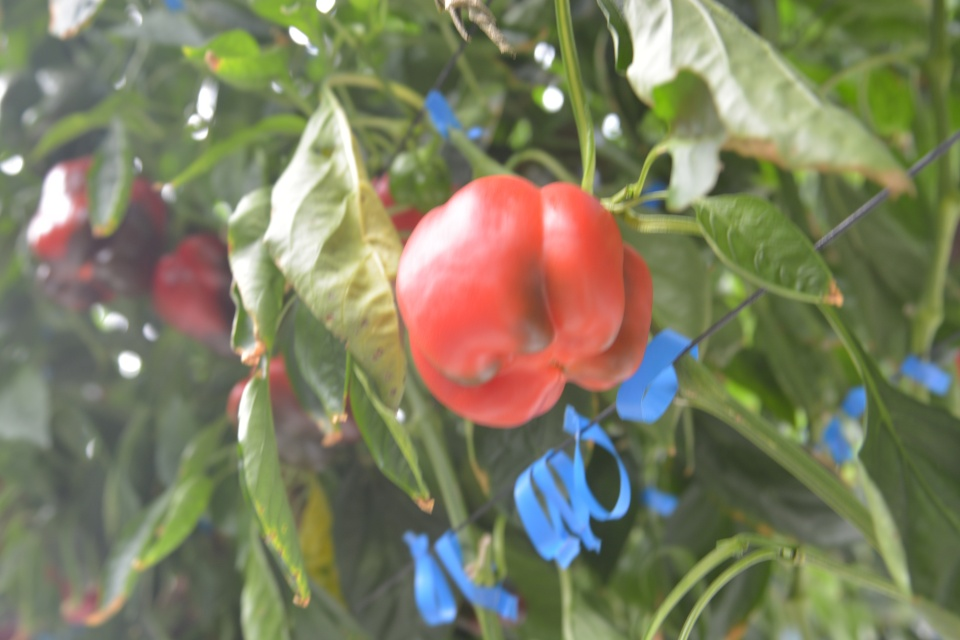fruit: (393, 174, 655, 432), (23, 152, 175, 317), (224, 355, 364, 468), (152, 228, 236, 337)
